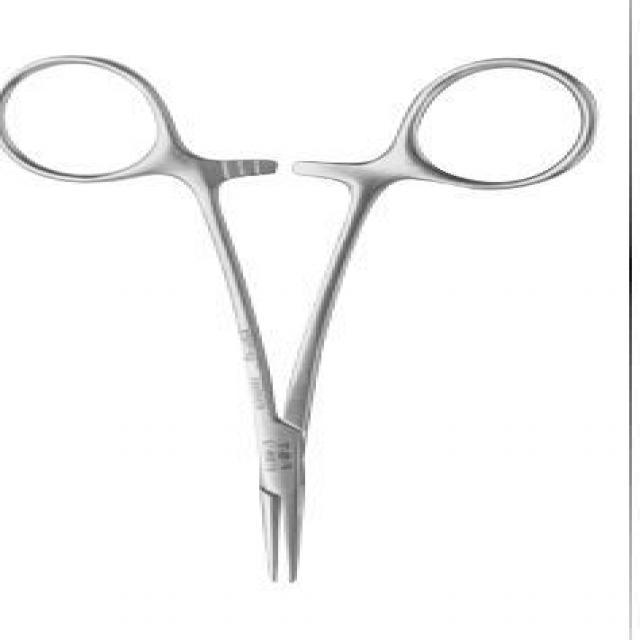Hemostat: (6, 55, 600, 588)
